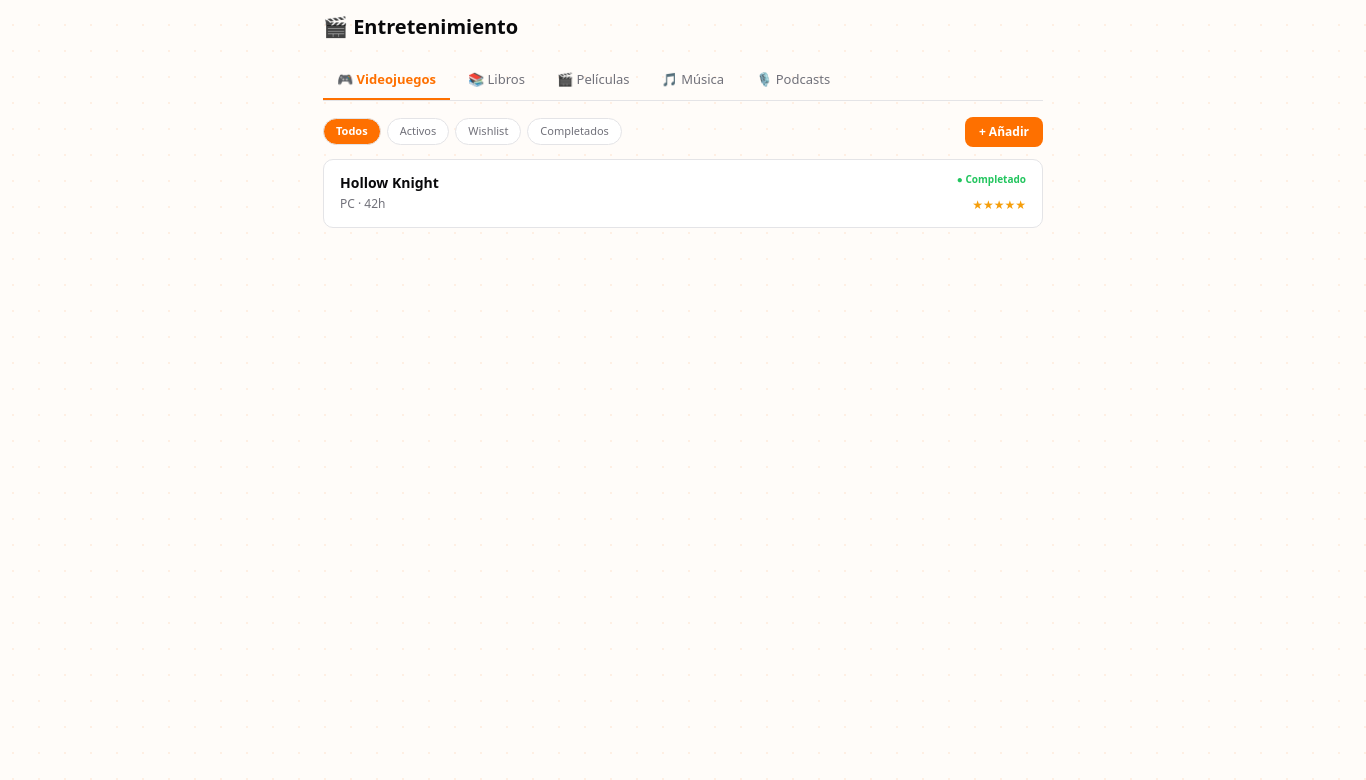
Test: Entretenimiento › switches to Películas tab
Click the button "🎬 Películas" at point(593, 81), box [543, 62, 644, 100]
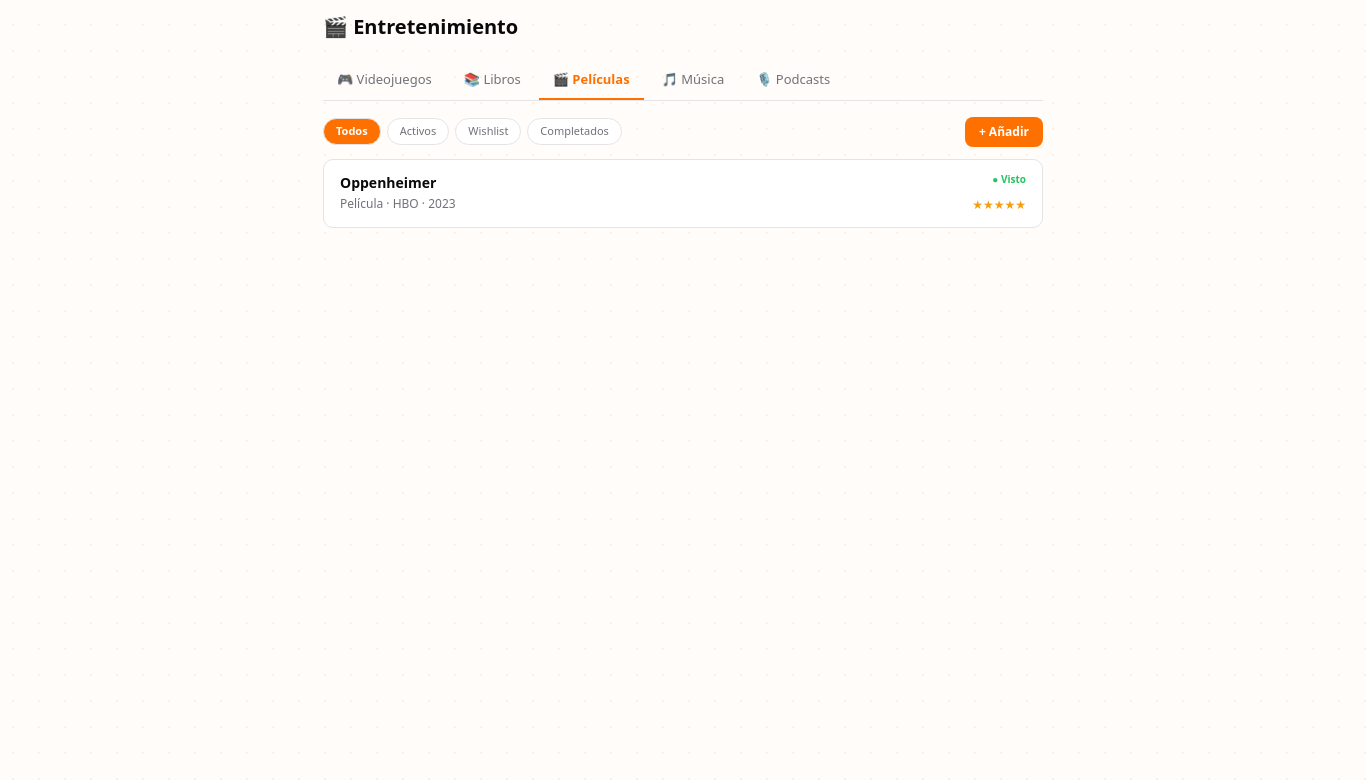
Expected: the text "Oppenheimer" is shown, [340, 172, 436, 192]
